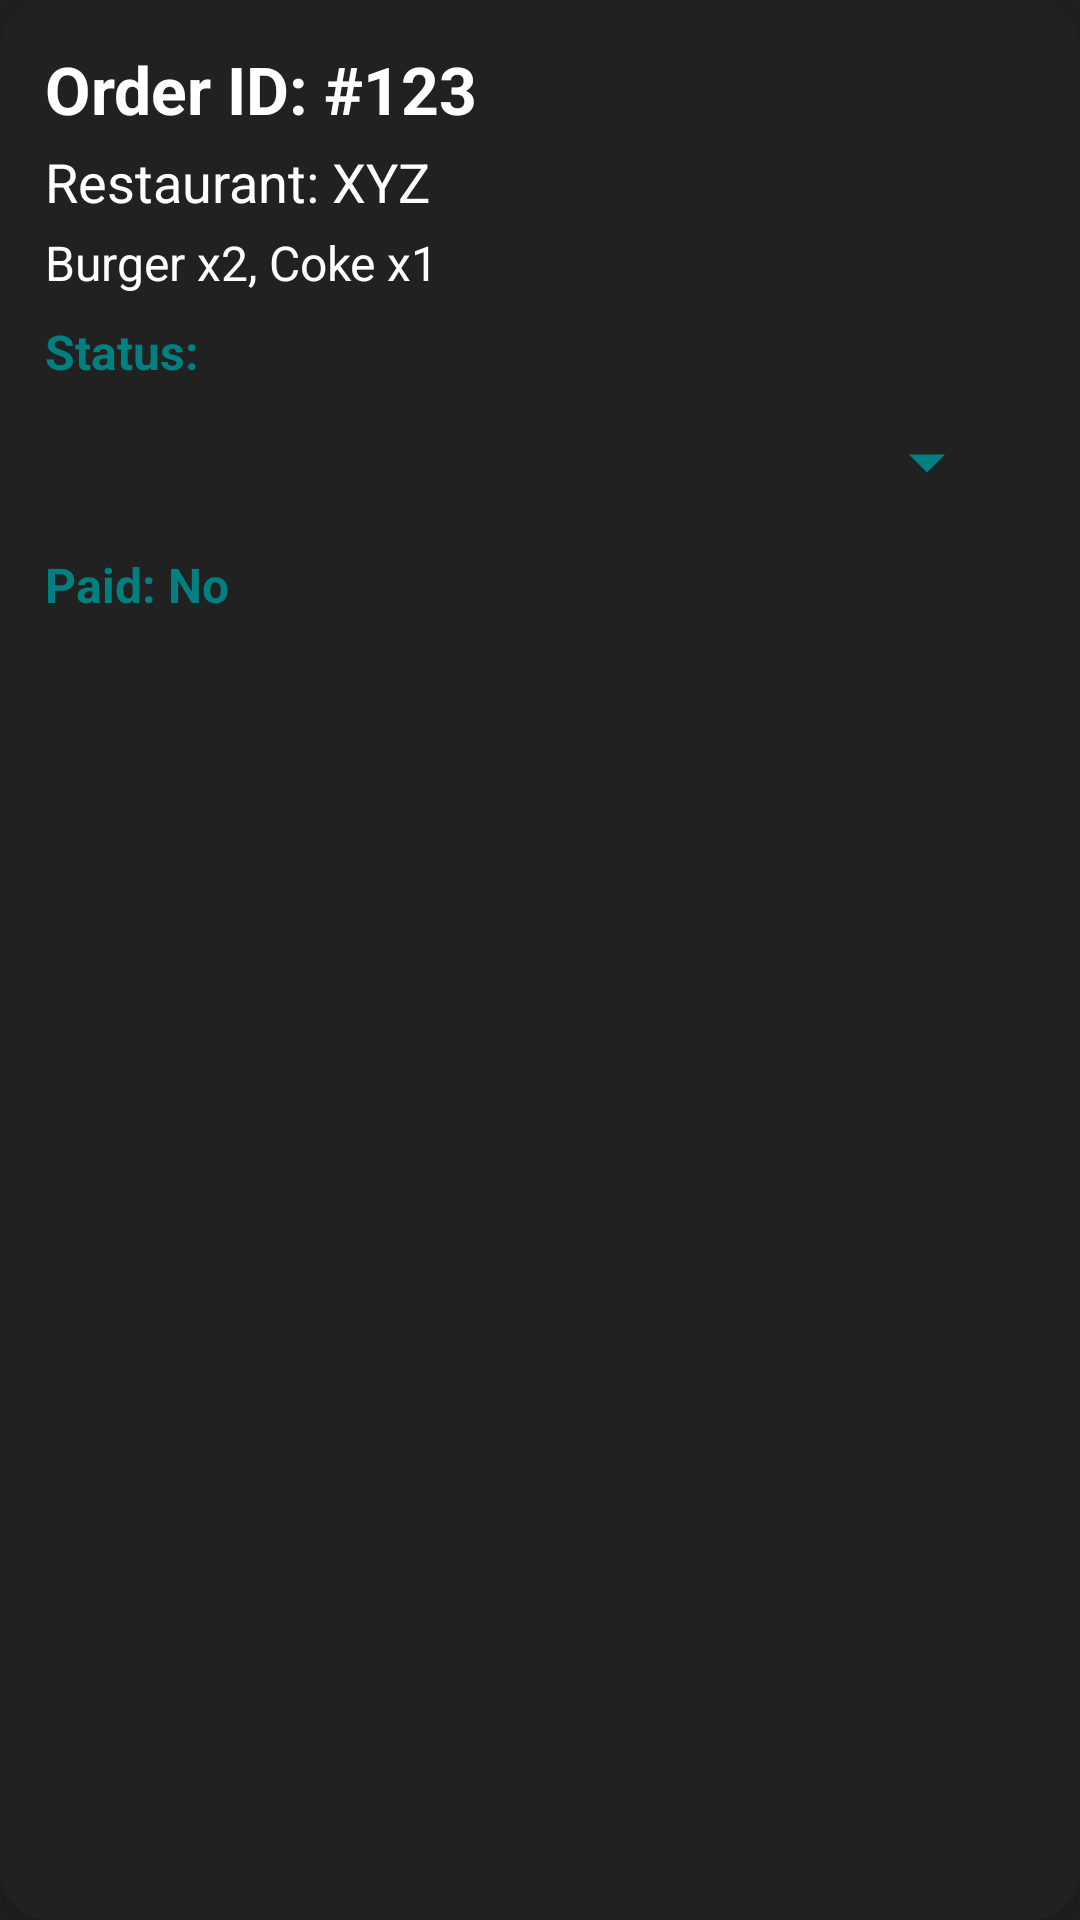

Icon click points for this 1080x1920 phone screenshot, format [x,y]:
Dropdown arrow: [927,463]
